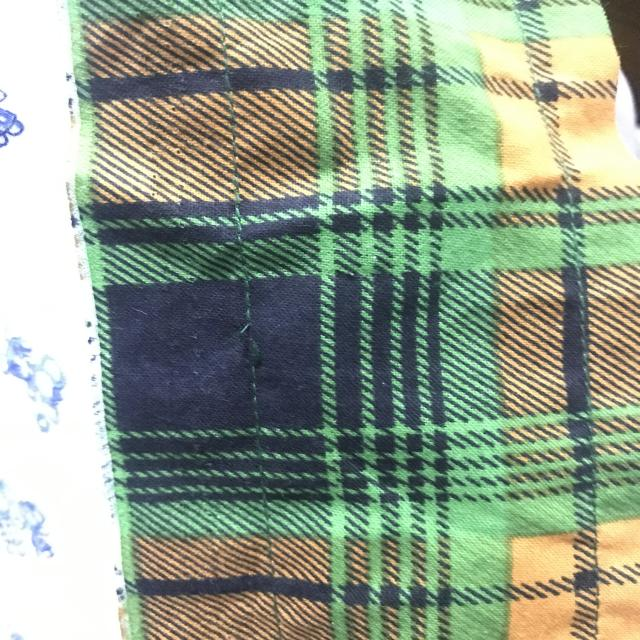broken: (225, 304, 278, 385)
good: (577, 286, 607, 396)
